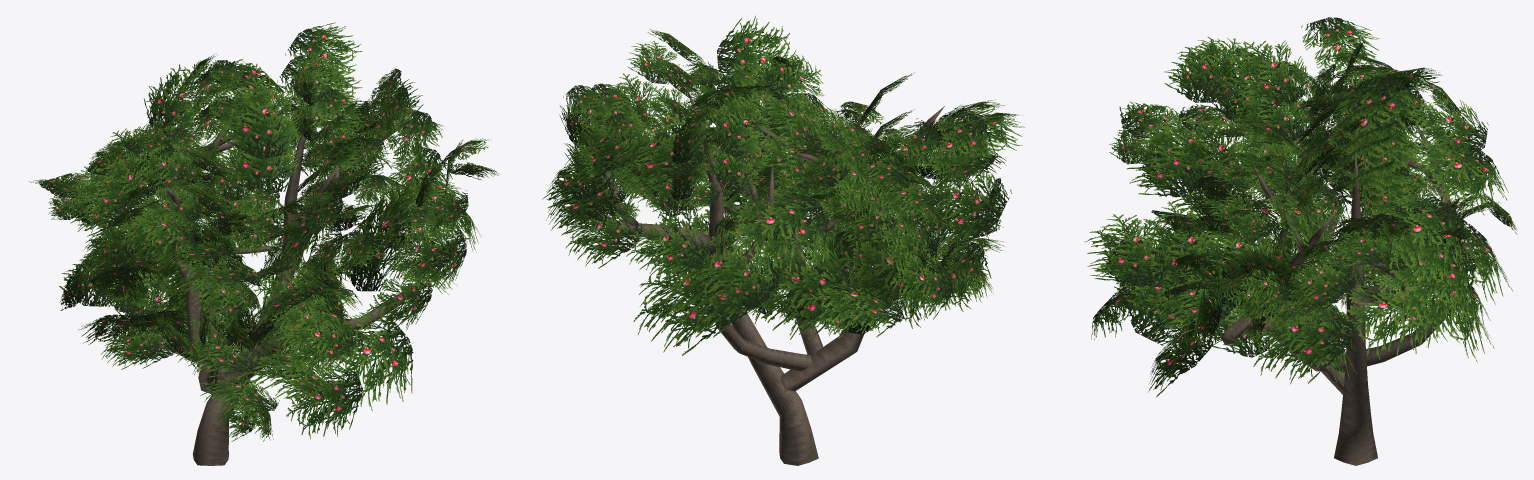
File: Árvore Roma.fbx
3 renders of one model, left to right at view 1: azimuth 30°, elevation 25°; view 2: azimuth 150°, elevation 25°; view 3: azimuth 270°, elevation 25°, orthographic. The views are drawn at different scales.
Visible parts, largest first — view 1: Model_Arvore_Roma; view 2: Model_Arvore_Roma; view 3: Model_Arvore_Roma.
Boxes of the visible parts, x1=… form: Model_Arvore_Roma: x1=29, y1=22, x2=499, y2=465; Model_Arvore_Roma: x1=542, y1=15, x2=1024, y2=465; Model_Arvore_Roma: x1=1084, y1=17, x2=1517, y2=465.
Size of the model in its own units: 802 by 690 by 663.
